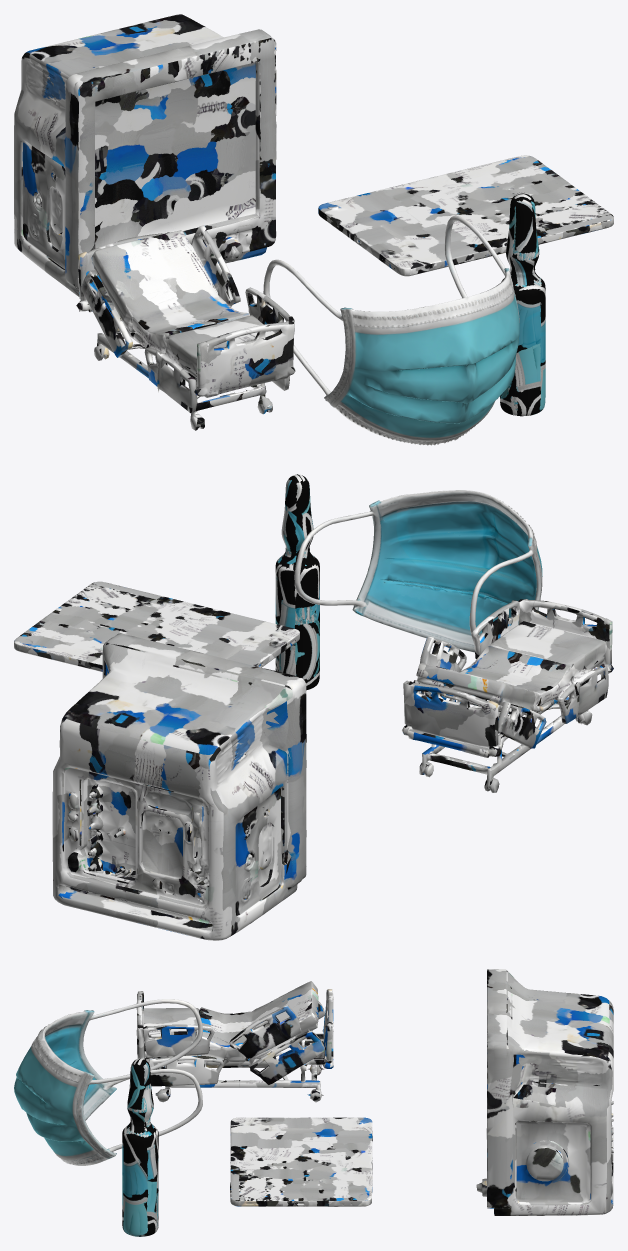
Rendered from cinco.fbx.
3 renders of one model, top to bottom at view 1: azimuth 30°, elevation 25°; view 2: azimuth 150°, elevation 25°; view 3: azimuth 270°, elevation 25°, orthographic. The views are drawn at different scales.
Visible parts, largest first — view 1: Mesh_0.001, Mesh_0.002, Mesh1.0, Mesh_0, Mesh1.001; view 2: Mesh_0.001, Mesh_0.002, Mesh1.0, Mesh_0, Mesh1.001; view 3: Mesh_0.001, Mesh_0.002, Mesh_0, Mesh1.0, Mesh1.001.
Part boxes in pixels (x1,y1,x2,y2): Mesh_0.001: (14,14,276,296); Mesh_0.002: (76,225,295,430); Mesh1.0: (263,216,519,445); Mesh_0: (318,155,613,276); Mesh1.001: (500,192,545,416); Mesh_0.001: (52,633,306,940); Mesh_0.002: (402,599,613,792); Mesh1.0: (294,490,542,652); Mesh_0: (14,581,299,671); Mesh1.001: (275,474,319,690); Mesh_0.001: (476,969,613,1215); Mesh_0.002: (136,981,333,1102); Mesh_0: (230,1117,372,1206); Mesh1.0: (14,999,202,1165); Mesh1.001: (122,1058,158,1236).
Bounding box in the file's own units: 447 × 200 × 606.
